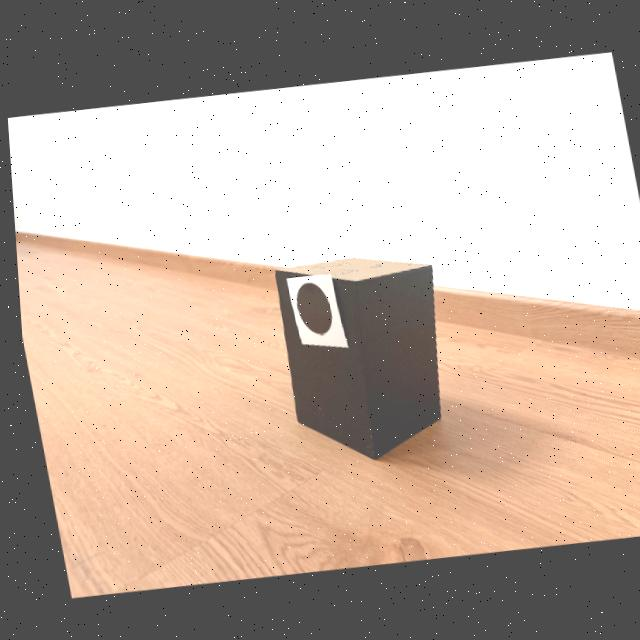CIRCLE: (292, 282, 328, 333)
